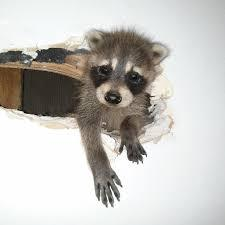raccoon: (68, 16, 177, 212)
